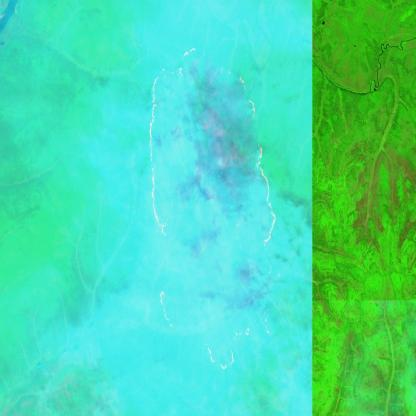fire: (147, 43, 277, 379)
